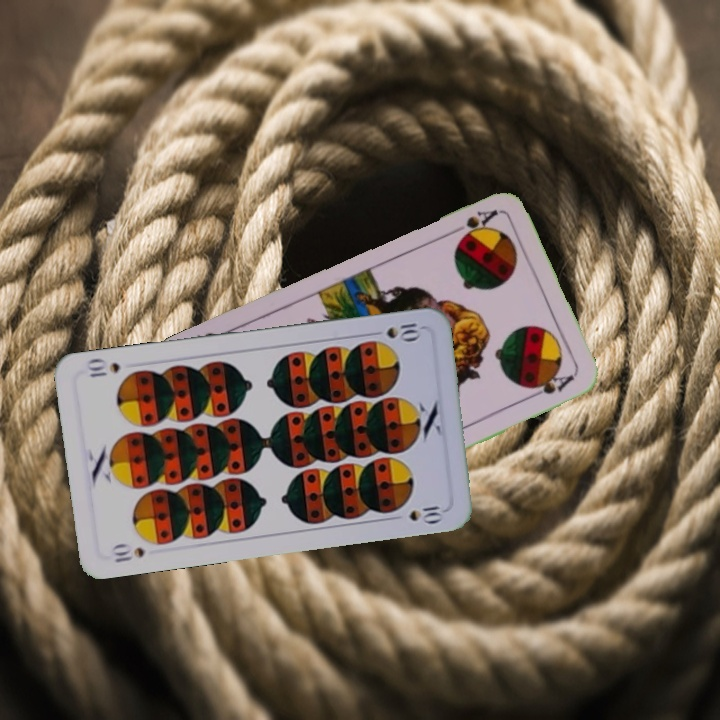S10: (107, 540, 148, 566), (382, 319, 425, 342)
SA: (444, 205, 500, 242)
